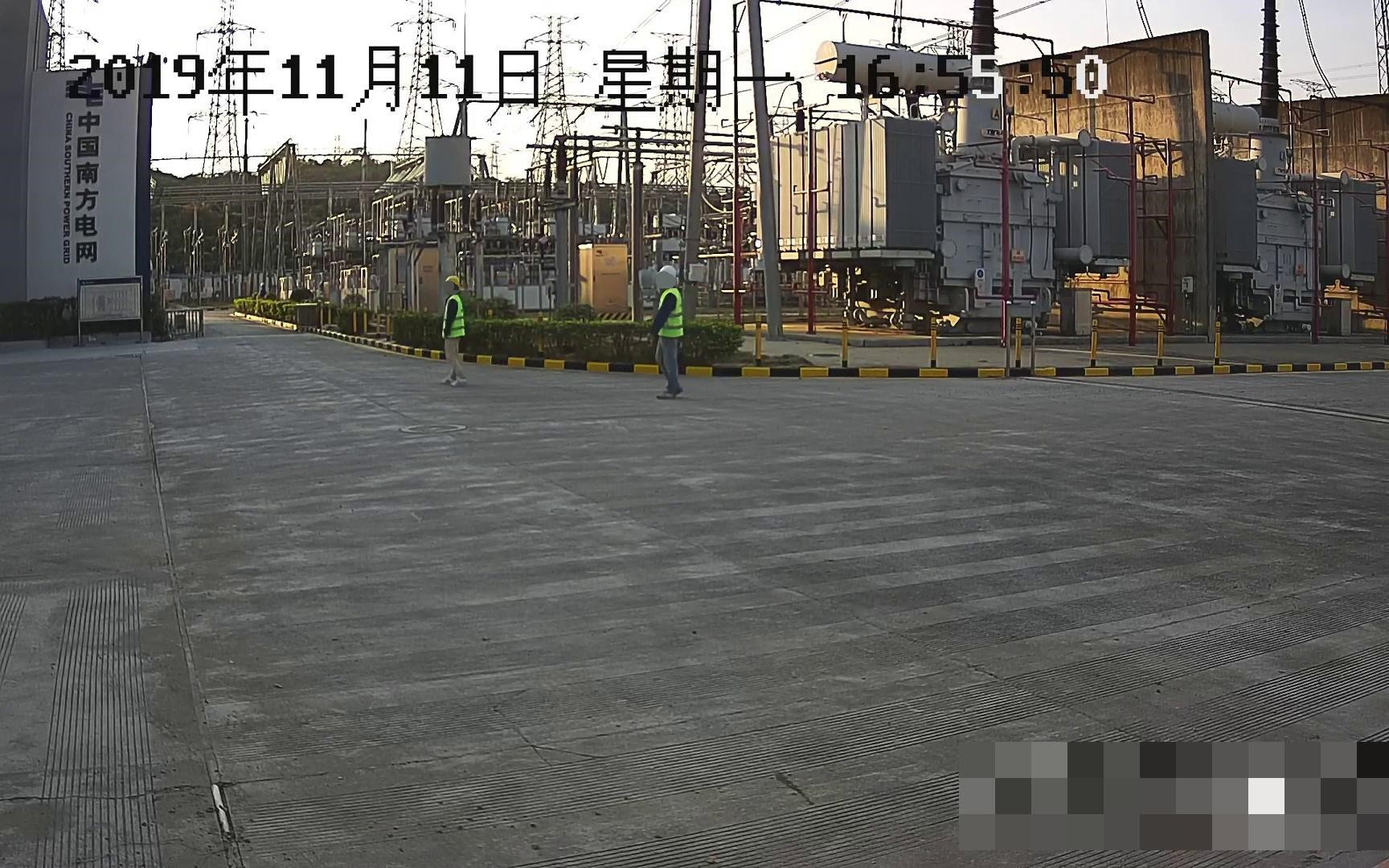hat: (654, 264, 678, 289), (443, 275, 461, 296)
person: (637, 263, 696, 399), (427, 272, 479, 388)
